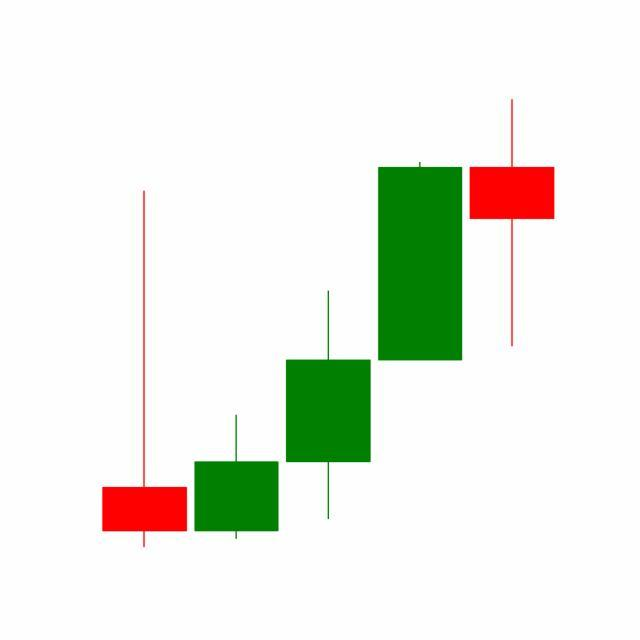Spinning Top: (466, 97, 559, 350)
